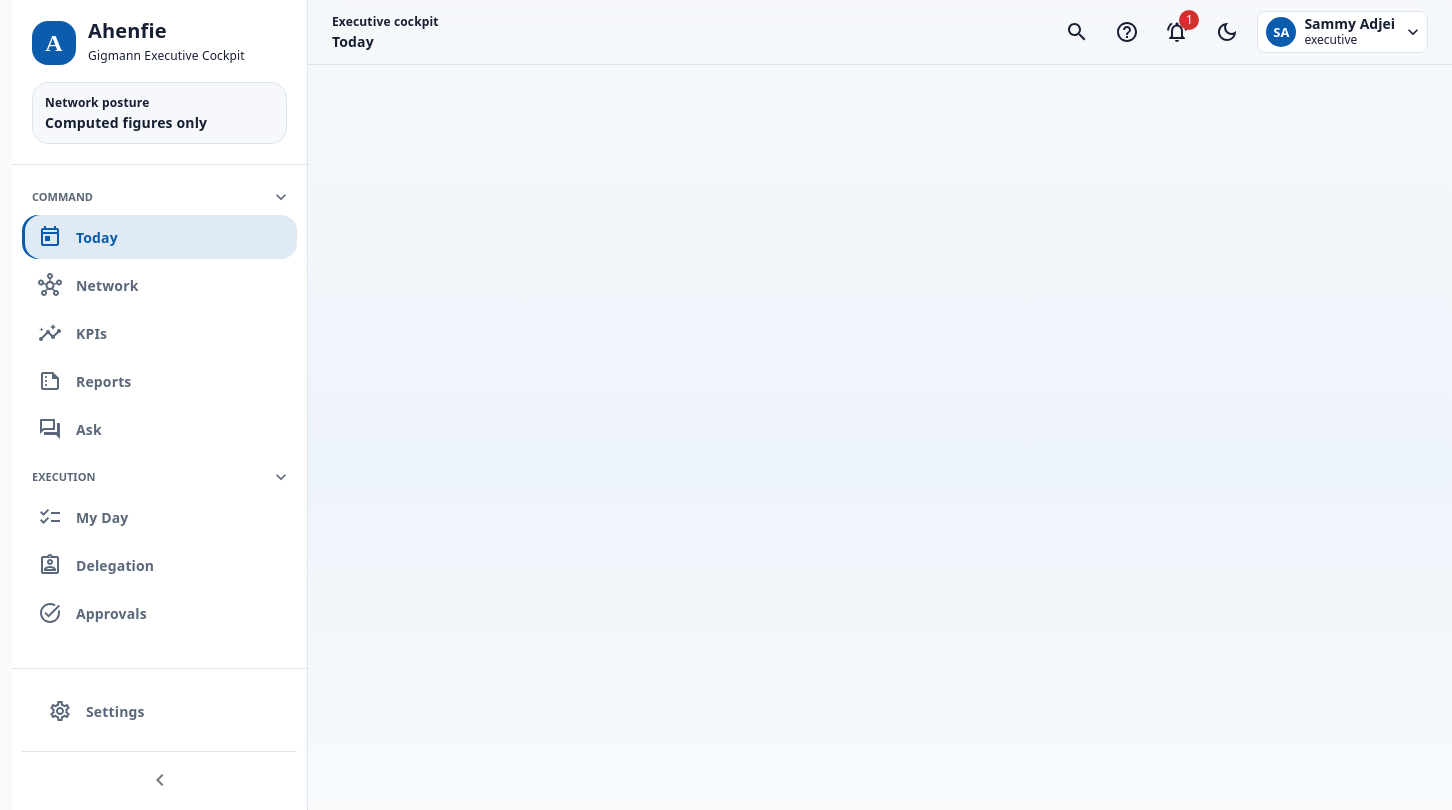
Scenario: AppShell › navigates from the account menu
Click the button "SA Sammy Adjei executive". click: (1343, 32)
box: [1257, 11, 1428, 53]
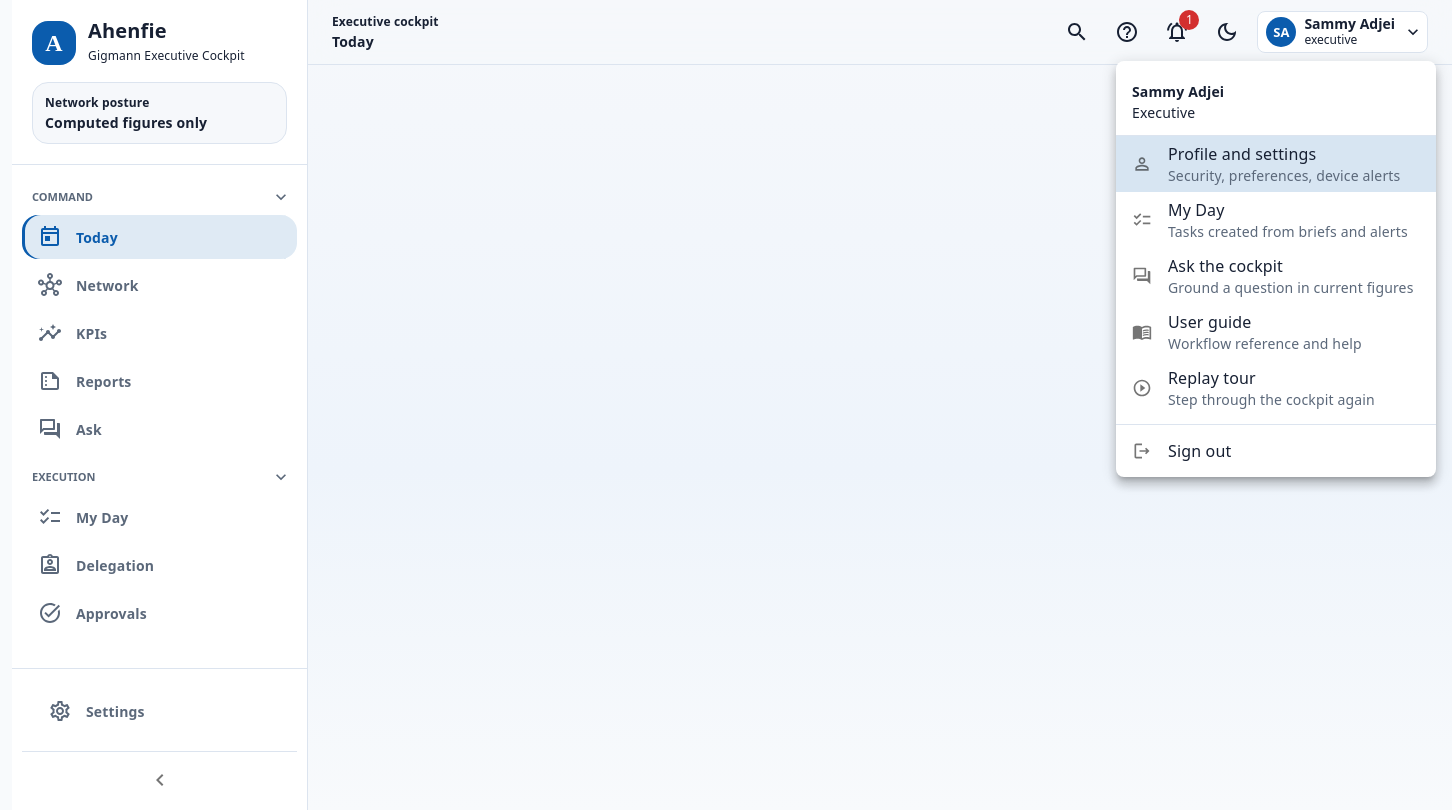
Click the text "Profile and settings". click: (1242, 154)
box: [1168, 143, 1316, 165]
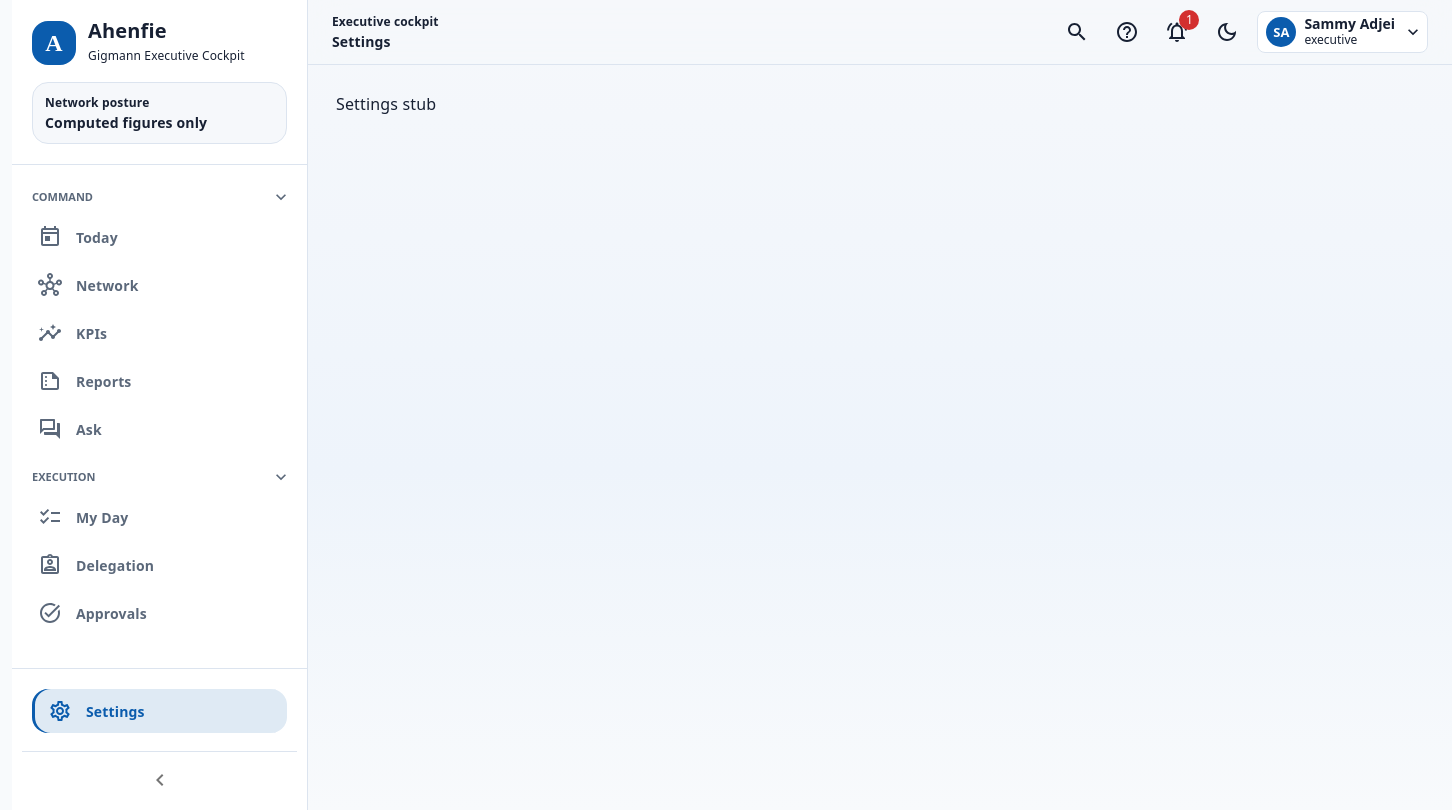
Expected: the text "Settings stub" is shown, [336, 93, 436, 115]
